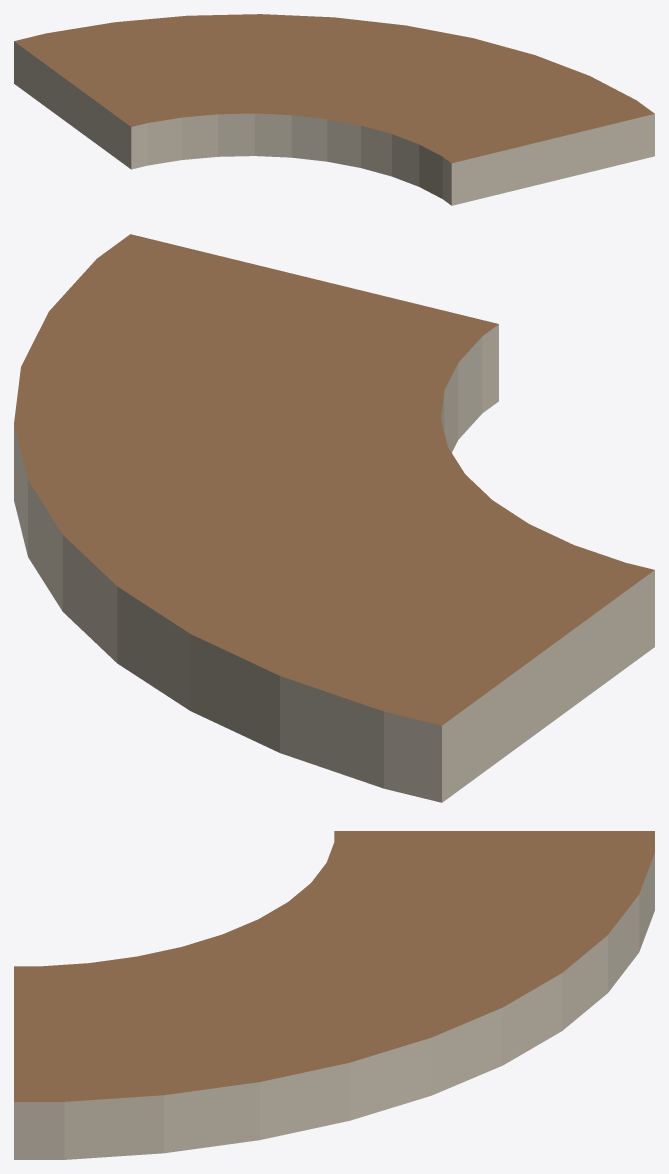
Rendered from Floor_Curved_Large.obj.
3 renders of one model, top to bottom at view 1: azimuth 30°, elevation 25°; view 2: azimuth 150°, elevation 25°; view 3: azimuth 270°, elevation 25°, orthographic. The views are drawn at different scales.
Visible parts, largest first — view 1: object1; view 2: object1; view 3: object1.
Part boxes in pixels (<box>): object1: <box>14,14,654,205</box>; object1: <box>14,234,654,802</box>; object1: <box>14,831,654,1159</box>.
Size of the model in its own units: 2 by 0.2 by 2.
